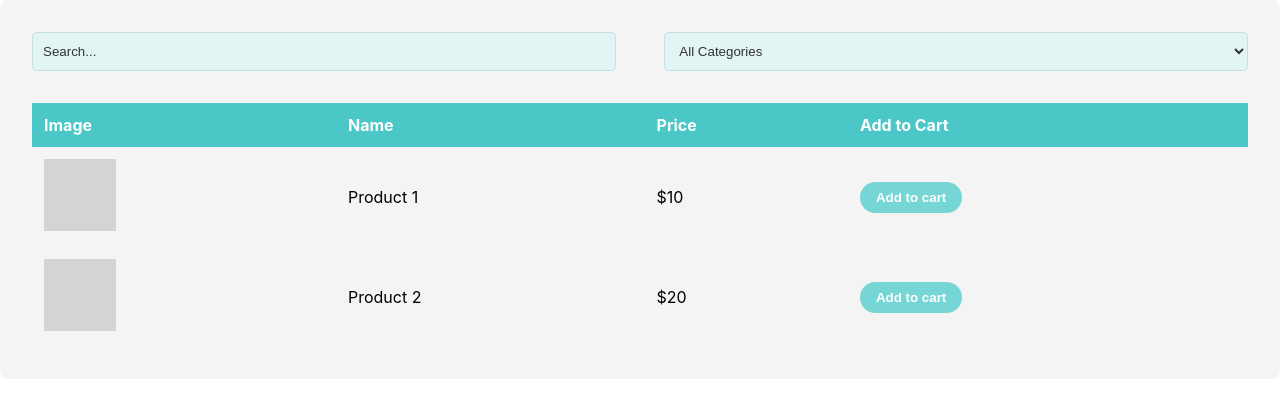
Test: filters products based on category
Select "Category 1" in the dropdown. click: (956, 52)
box: [664,32,1248,71]
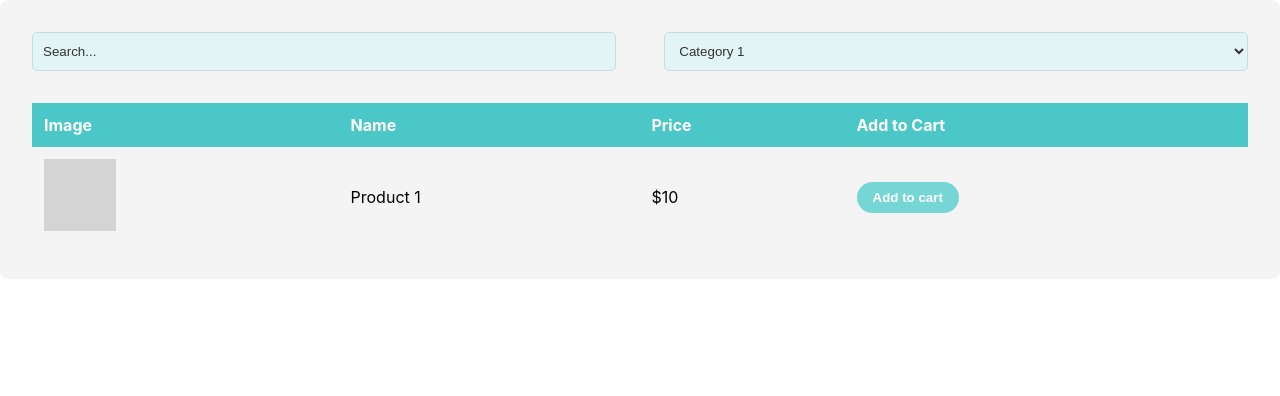
expect the text "Product 1" is shown: met, box [338,147,639,247]
expect the text "Product 2" is gone: met
